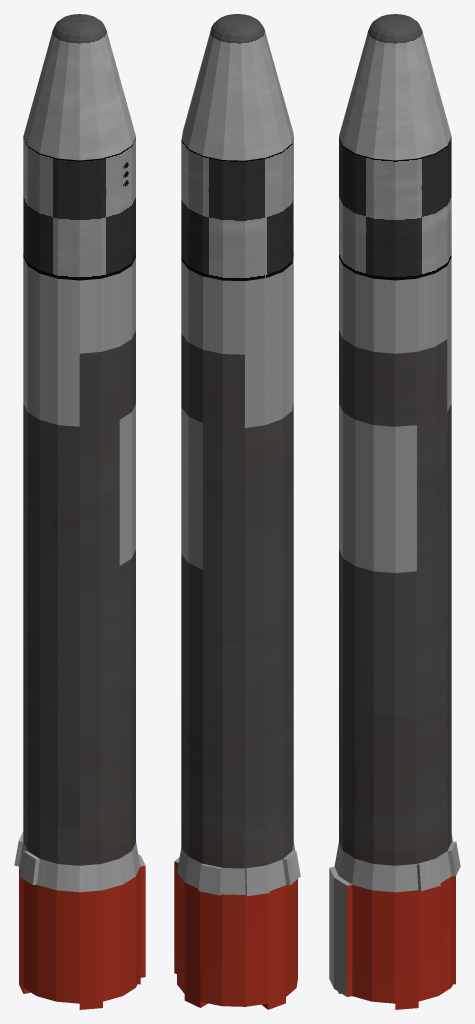
File: missile.gltf
The picture shows the model from 3 angles, left to right: view 1: azimuth 90°, elevation 25°; view 2: azimuth 210°, elevation 25°; view 3: azimuth 270°, elevation 25°; orthographic projection.
Parts seen in each view (by area): view 1: Cylinder; view 2: Cylinder; view 3: Cylinder.
Boxes of the visible parts, x1,y1,x2,y2 form: Cylinder: (14, 14, 145, 1009); Cylinder: (174, 14, 300, 1009); Cylinder: (329, 14, 460, 1009).
Size of the model in its own units: 2.16 by 18.86 by 2.33.
2 materials, 2 textured.
